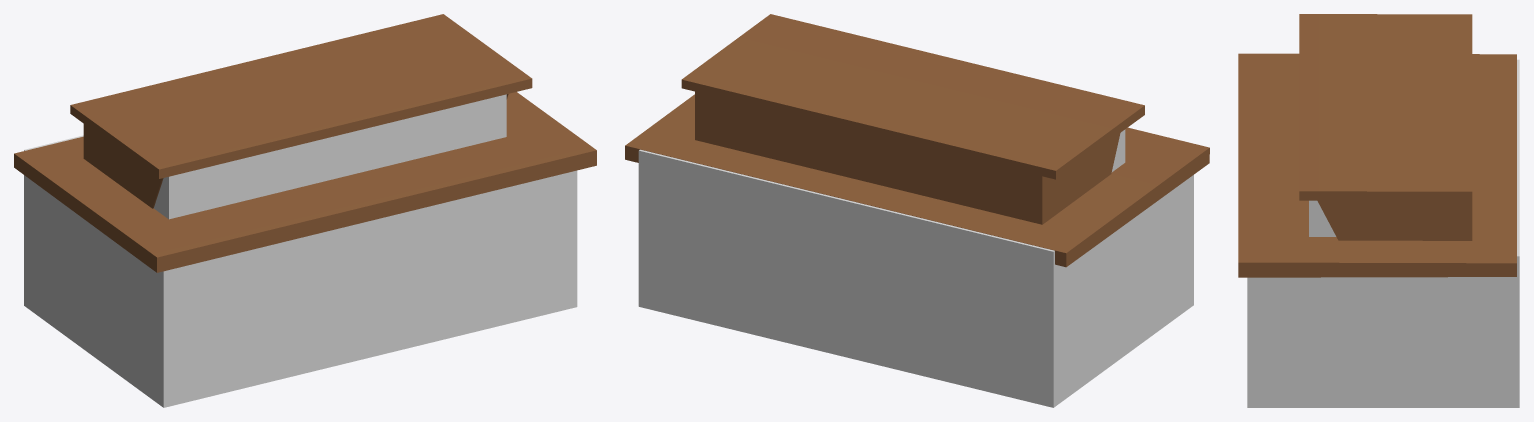
Rendered from market_table_2.glb.
The picture shows the model from 3 angles, left to right: view 1: azimuth 30°, elevation 25°; view 2: azimuth 150°, elevation 25°; view 3: azimuth 270°, elevation 25°; orthographic projection. The views are drawn at different scales.
Parts seen in each view (by area): view 1: Cube.001, Market_Table_02, Cube.002; view 2: Cube.001, Market_Table_02; view 3: Market_Table_02, Cube.001, Cube.002.
Boxes of the visible parts, left/top/right/bottom form: Cube.001: left=24, top=135, right=577, bottom=407; Market_Table_02: left=14, top=14, right=596, bottom=272; Cube.002: left=153, top=94, right=506, bottom=219; Cube.001: left=638, top=149, right=1193, bottom=407; Market_Table_02: left=625, top=14, right=1209, bottom=267; Market_Table_02: left=1238, top=14, right=1516, bottom=277; Cube.001: left=1247, top=59, right=1519, bottom=407; Cube.002: left=1309, top=200, right=1336, bottom=236.
Bounding box in the file's own units: 2.12 × 0.9818 × 1.2.
1 material, 1 textured.
